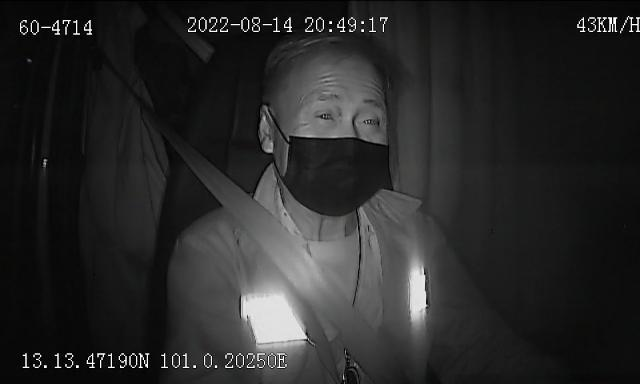SafeDriving: (352, 106, 390, 132), (310, 103, 340, 126)
Seatbelt: (168, 140, 384, 384)
